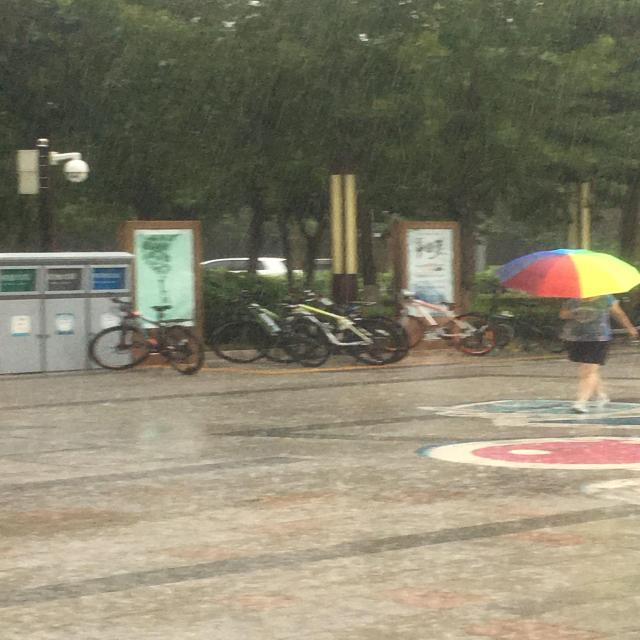car: (196, 256, 306, 282)
